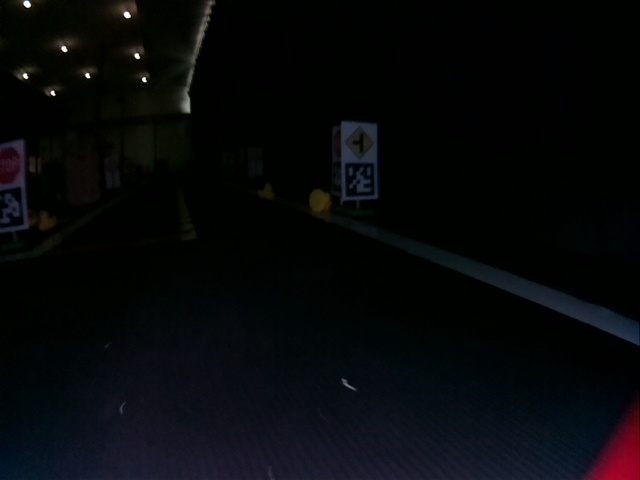Duckie: (309, 188, 331, 212), (38, 211, 55, 230)
Intersection sign: (343, 123, 376, 159)
QR code: (345, 163, 378, 197), (0, 186, 25, 229)
Stop sign: (0, 144, 22, 185)
